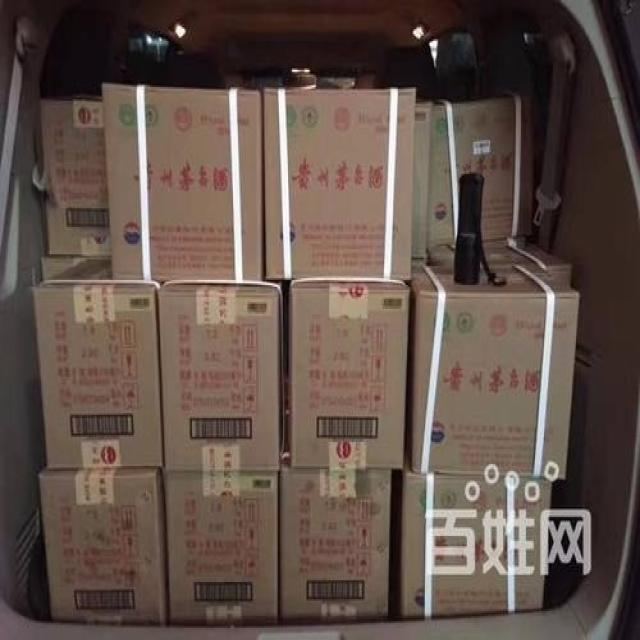box: (411, 266, 579, 481), (104, 84, 264, 282), (265, 87, 416, 282), (32, 256, 164, 469), (157, 280, 280, 471), (288, 280, 410, 471), (401, 474, 550, 618), (37, 464, 169, 626), (164, 468, 278, 621), (282, 468, 392, 618), (429, 97, 532, 249), (38, 97, 113, 256)
